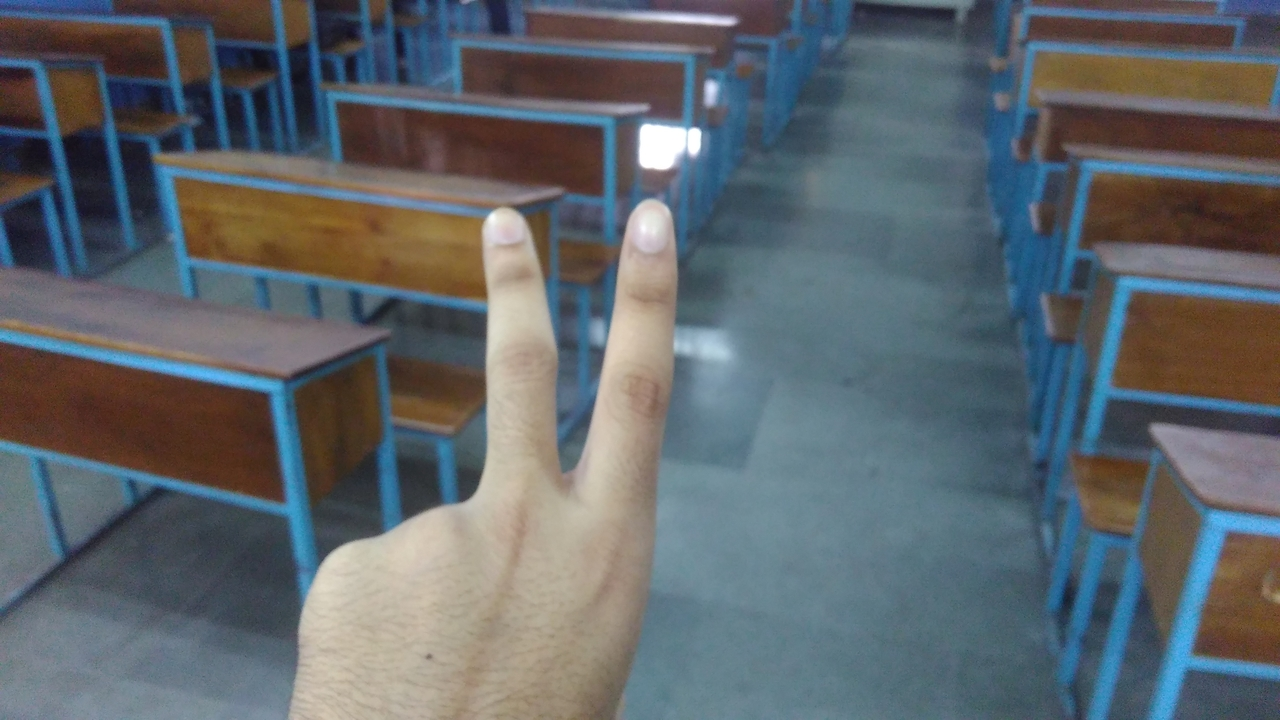fingertip: (616, 194, 682, 262), (468, 200, 536, 262)
